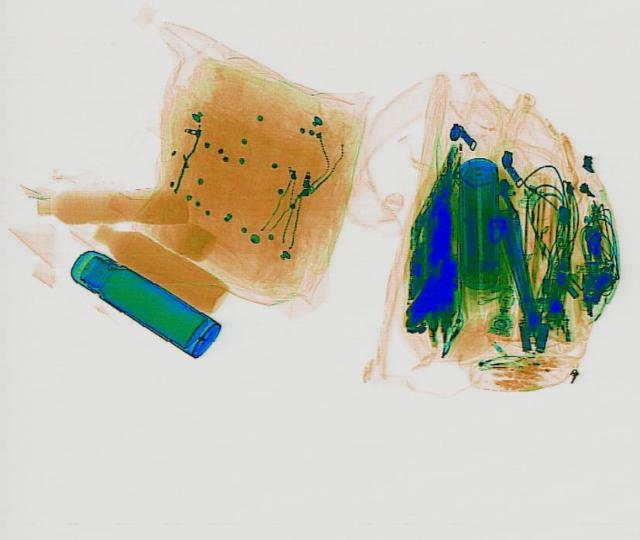Wrench: (503, 208, 542, 342)
